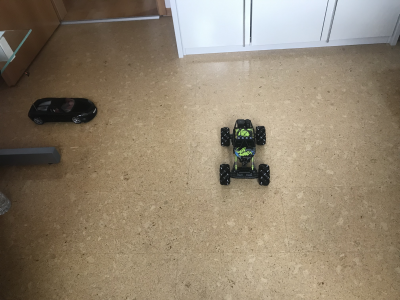remote control car: (217, 116, 271, 189)
